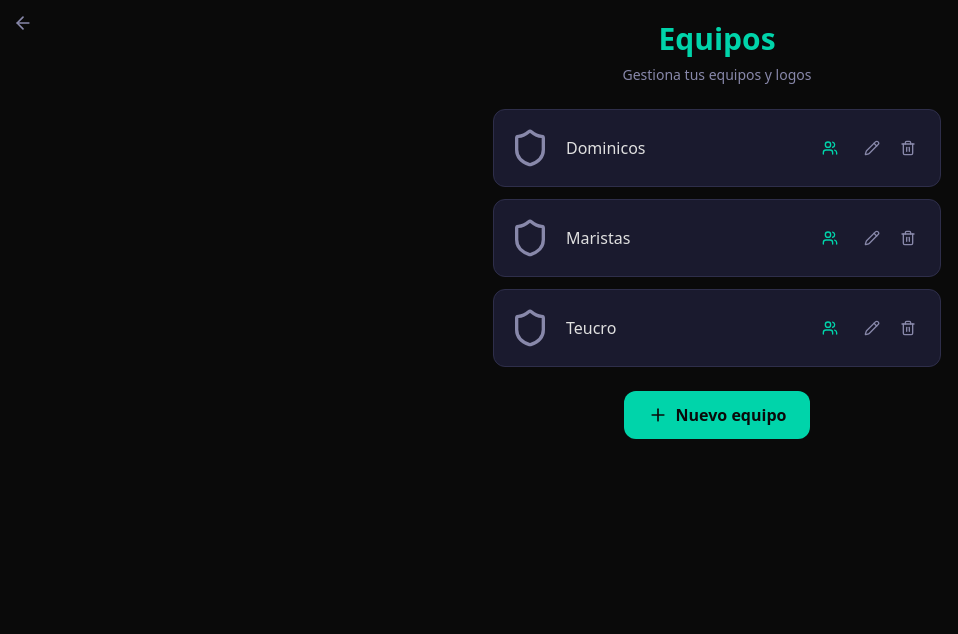
TeamsPage — duplicate name validation › create form › shows error for case-insensitive duplicates and clears on input change
Click the button "Nuevo equipo" at (717, 415), box left=624, top=391, right=810, bottom=439
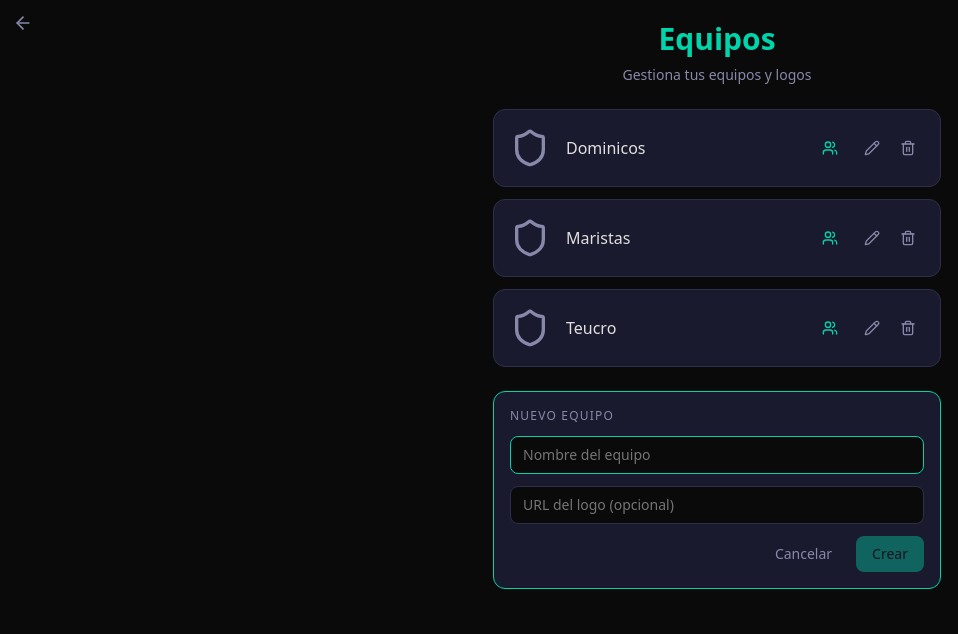
Type "DOMINICOS" into the field with placeholder "Nombre del equipo" at (717, 455), box left=510, top=436, right=924, bottom=474
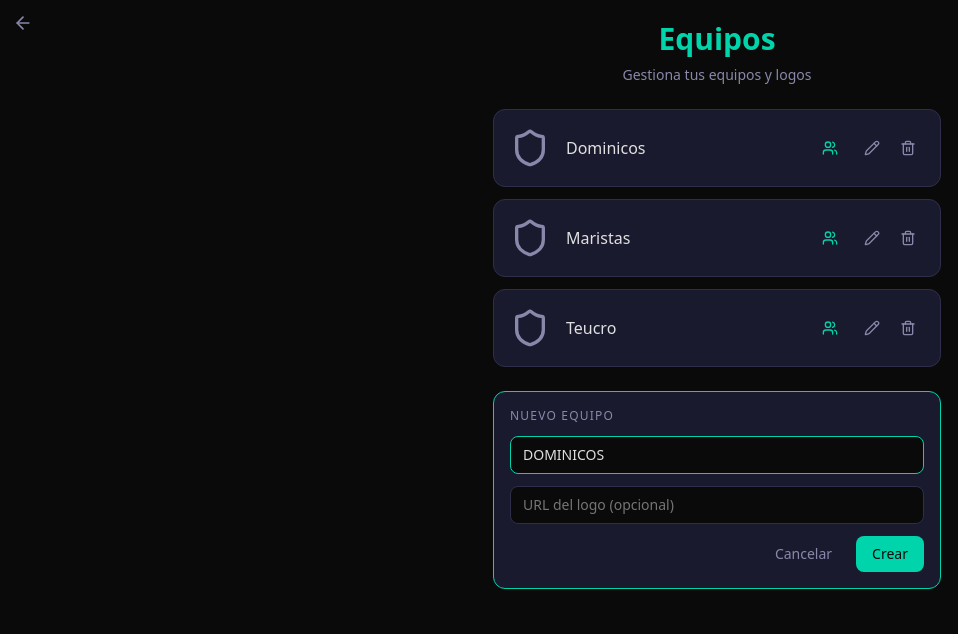
Click the button "Crear" at (890, 554), box left=856, top=536, right=924, bottom=572
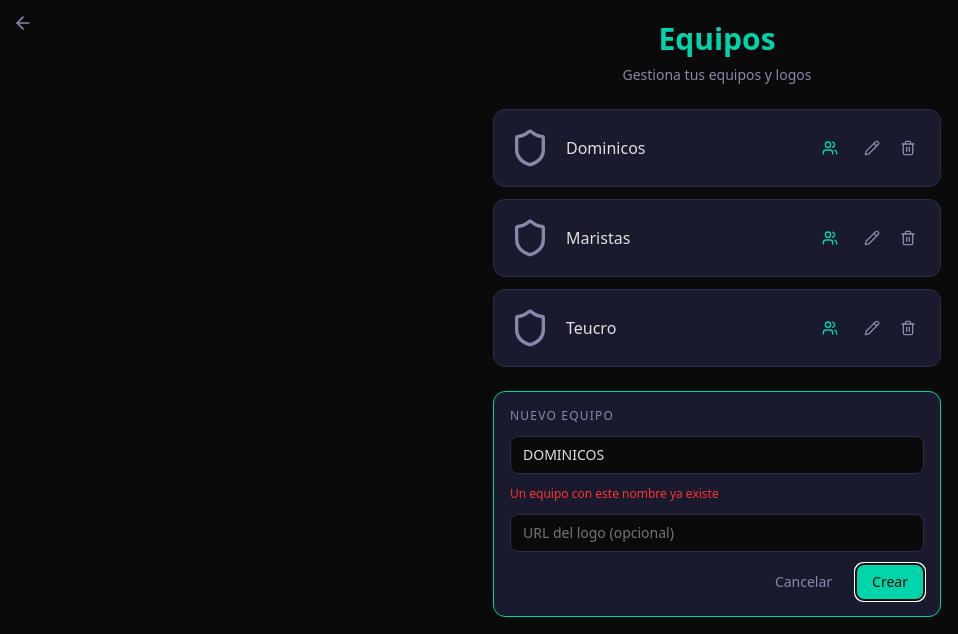
Result: the text "Un equipo con este nombre ya existe" is shown at left=510, top=485, right=719, bottom=502
Type "X" into the field with placeholder "Nombre del equipo" at (717, 455), box left=510, top=436, right=924, bottom=474
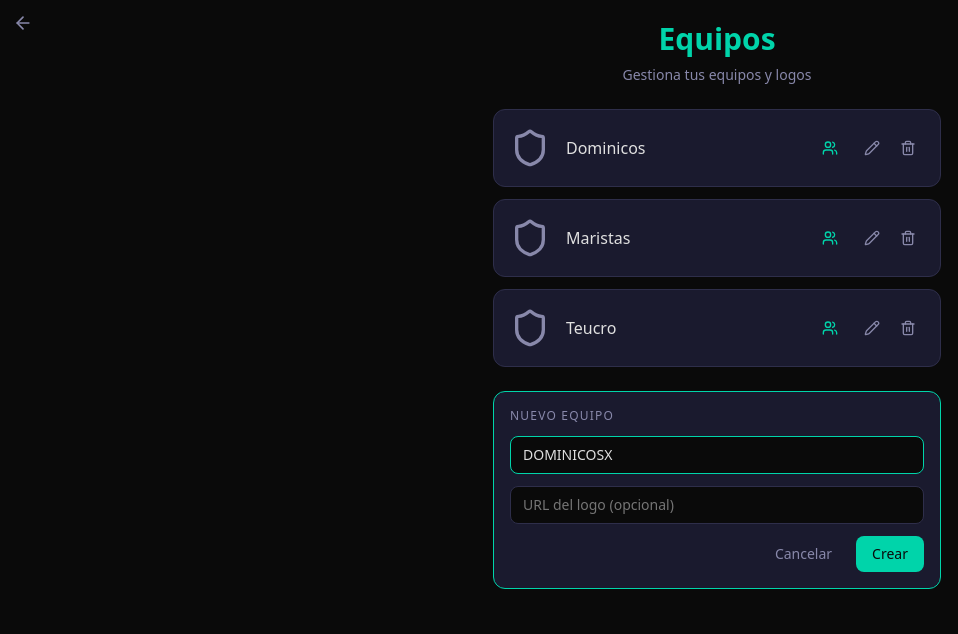
Result: the text "Un equipo con este nombre ya existe" is gone
